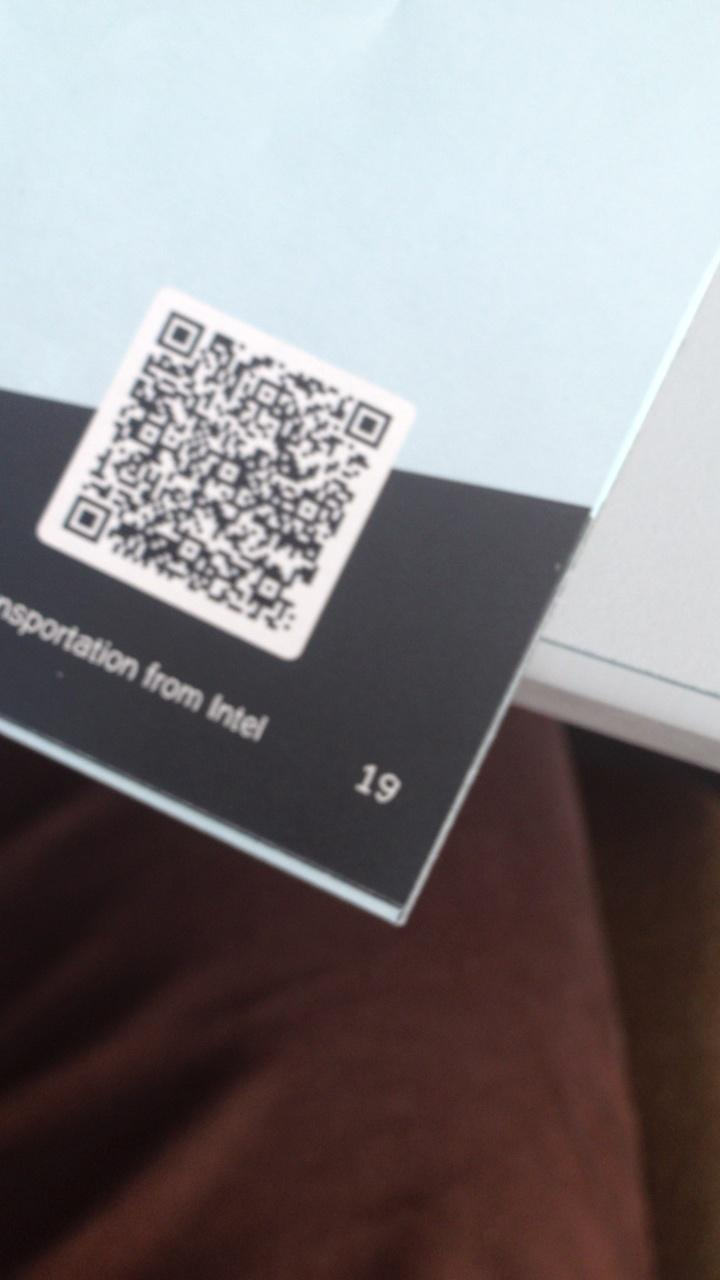Finder pattern: (340, 396, 396, 458), (153, 306, 208, 361), (62, 493, 113, 545)
